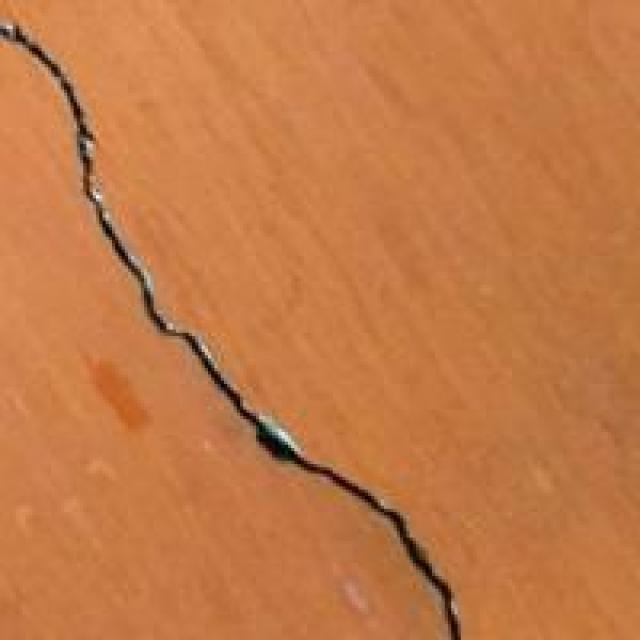crack: (6, 6, 477, 637)
